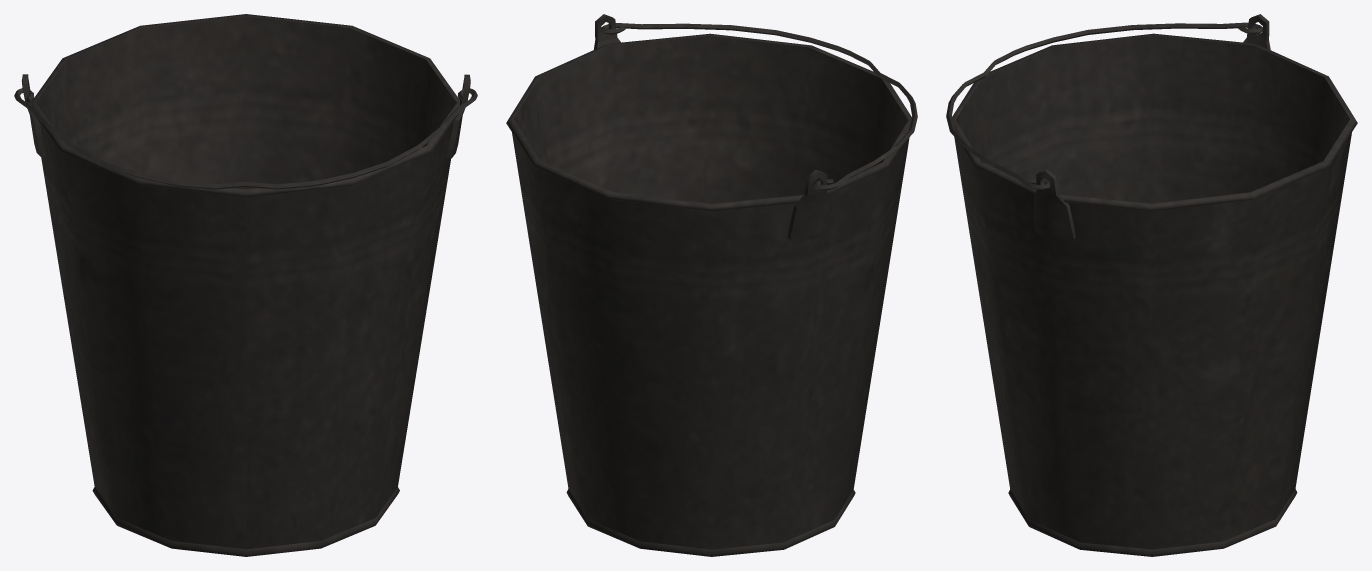
The model's file is bucket_mx_3.obj.
The picture shows the model from 3 angles, left to right: view 1: azimuth 30°, elevation 25°; view 2: azimuth 150°, elevation 25°; view 3: azimuth 270°, elevation 25°; orthographic projection. The views are drawn at different scales.
Parts seen in each view (by area): view 1: bucket_mx_3; view 2: bucket_mx_3; view 3: bucket_mx_3.
Boxes of the visible parts, box(x1,y1,x2,y2) form: bucket_mx_3: box(14, 14, 477, 556); bucket_mx_3: box(506, 14, 917, 556); bucket_mx_3: box(946, 14, 1357, 556).
Bounding box in the file's own units: 0.4299 × 0.4651 × 0.4298.
